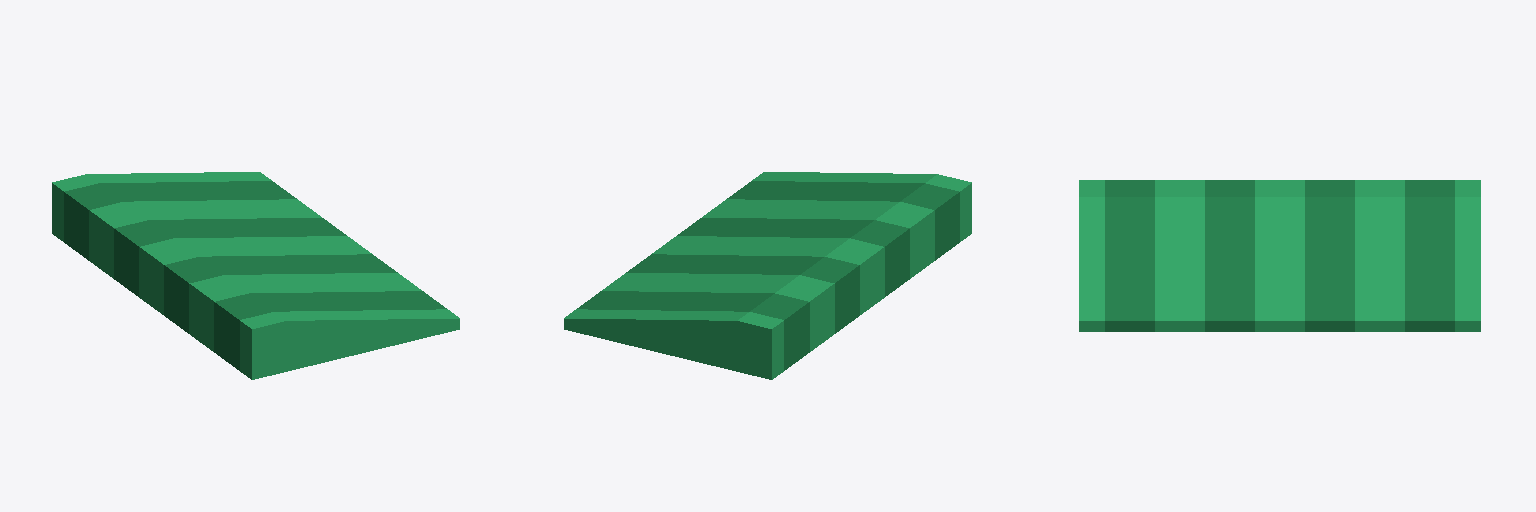
Rendered from Fabric.obj.
3 renders of one model, left to right at view 1: azimuth 30°, elevation 25°; view 2: azimuth 150°, elevation 25°; view 3: azimuth 270°, elevation 25°, orthographic.
Visible parts, largest first — view 1: Mesh1 Model; view 2: Mesh1 Model; view 3: Mesh1 Model.
Part boxes in pixels (x1,y1,x2,y2): Mesh1 Model: (52,172,459,379); Mesh1 Model: (564,172,971,379); Mesh1 Model: (1079,180,1480,331).
Bounding box in the file's own units: 0.6 × 0.14 × 1.